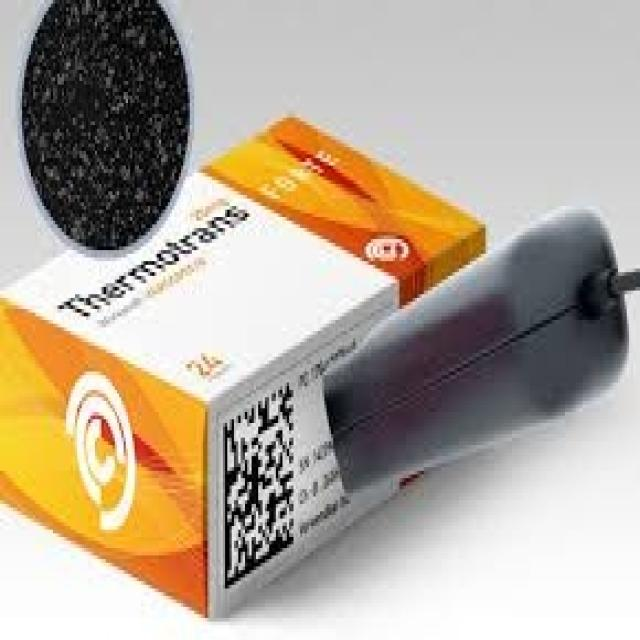datamatrix: (218, 368, 298, 599)
